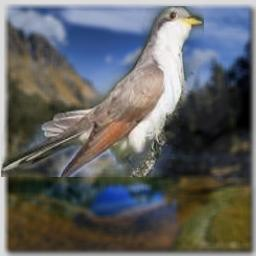Cuckoo: (1, 6, 204, 177)
